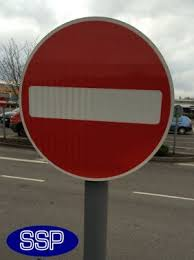No entry: (19, 16, 175, 182)
